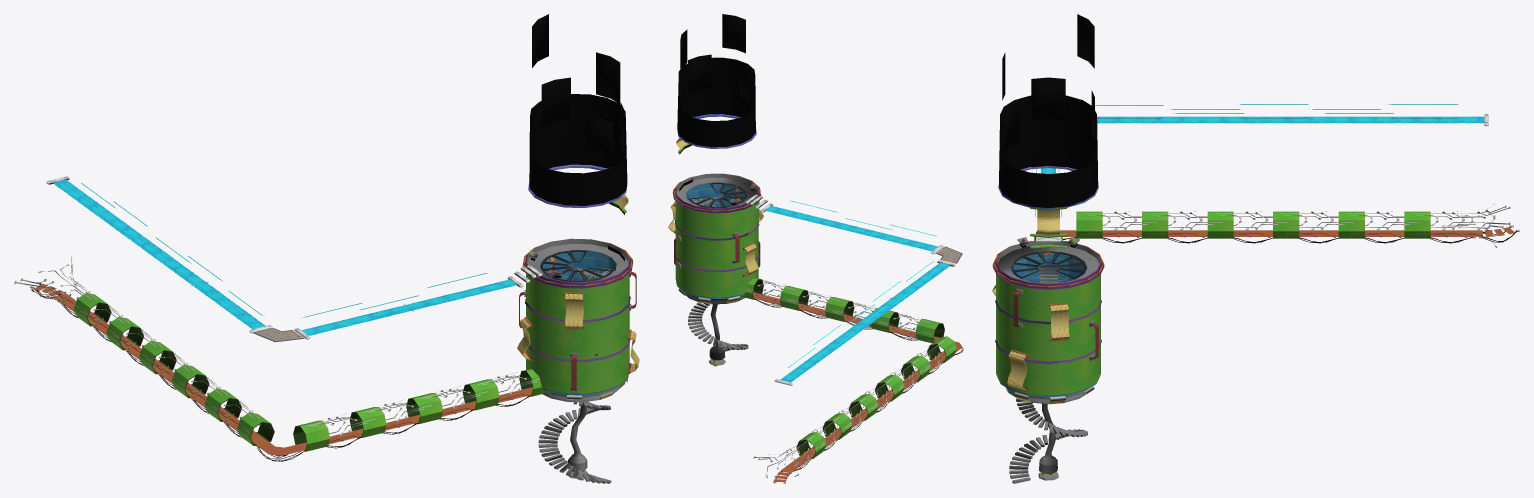
Rendered from meme-factory-tower-art.glb.
The picture shows the model from 3 angles, left to right: view 1: azimuth 30°, elevation 25°; view 2: azimuth 150°, elevation 25°; view 3: azimuth 270°, elevation 25°; orthographic projection. The views are drawn at different scales.
Visible parts, largest first — view 1: MemeFactory_Tower_Art; view 2: MemeFactory_Tower_Art; view 3: MemeFactory_Tower_Art.
Part boxes in pixels (x1=…): MemeFactory_Tower_Art: x1=14, y1=14, x2=639, y2=483; MemeFactory_Tower_Art: x1=668, y1=14, x2=963, y2=483; MemeFactory_Tower_Art: x1=992, y1=14, x2=1519, y2=483.
Bounding box in the file's own units: 61.64 × 68.17 × 72.43.
15 materials, 15 textured.
